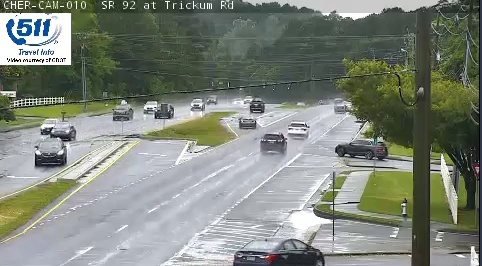car: (260, 132, 287, 152), (287, 121, 309, 137), (238, 116, 256, 128)
